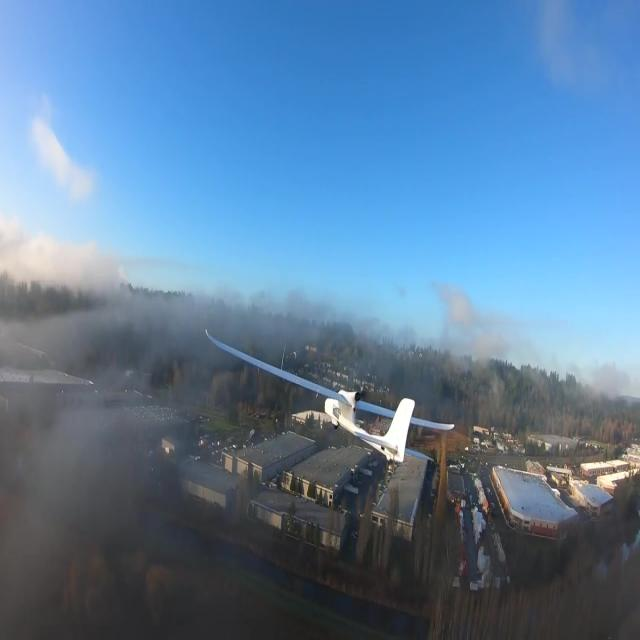iha: (197, 327, 450, 480)
